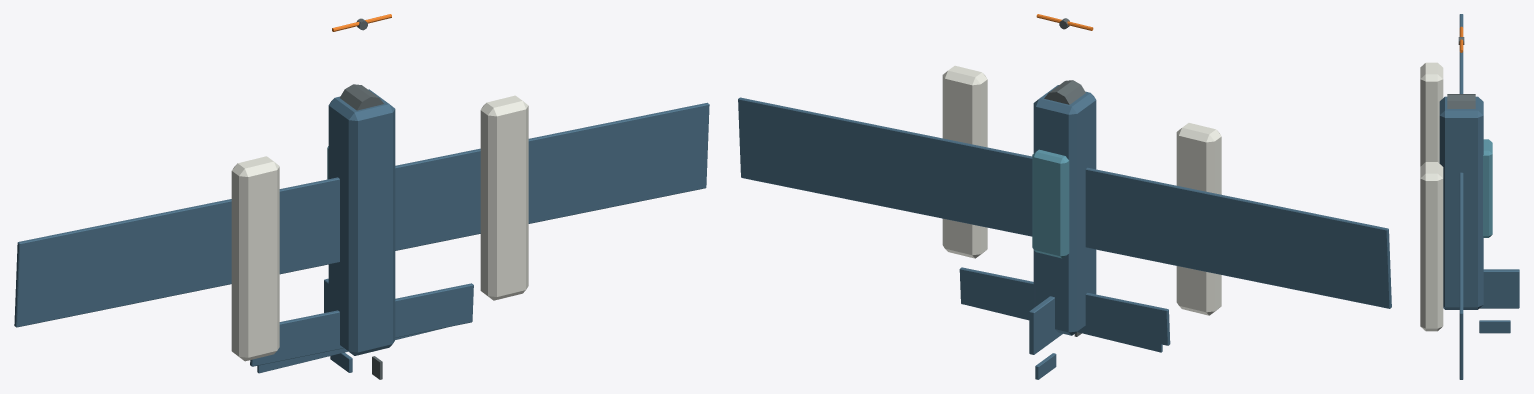
3 renders of one model, left to right at view 1: azimuth 30°, elevation 25°; view 2: azimuth 150°, elevation 25°; view 3: azimuth 270°, elevation 25°, orthographic. The views are drawn at different scales.
Visible parts, largest first — view 1: main_wing.038, fuselage.033, float_3.6936, float_-3.6936, horizontal_tail.038, engine_mount_0.038, elevator.038; view 2: main_wing.038, fuselage.033, float_3.6936, horizontal_tail.038, float_-3.6936, aileron_R.038, canopy.033, elevator.038, vertical_tail.038, engine_mount_0.038; view 3: fuselage.033, float_3.6936, float_-3.6936, vertical_tail.038, main_wing.038, canopy.033, rudder.038, engine_mount_0.038, prop_blade.136.
Boxes of the visible parts, x1=… form: main_wing.038: x1=14, y1=102, x2=709, y2=327; fuselage.033: x1=328, y1=89, x2=395, y2=355; float_3.6936: x1=480, y1=95, x2=528, y2=300; float_-3.6936: x1=231, y1=156, x2=279, y2=361; horizontal_tail.038: x1=250, y1=283, x2=473, y2=366; engine_mount_0.038: x1=340, y1=84, x2=383, y2=110; elevator.038: x1=257, y1=327, x2=445, y2=373; main_wing.038: x1=738, y1=97, x2=1391, y2=308; fuselage.033: x1=1033, y1=85, x2=1096, y2=335; float_3.6936: x1=942, y1=65, x2=987, y2=258; horizontal_tail.038: x1=959, y1=267, x2=1170, y2=345; float_-3.6936: x1=1176, y1=123, x2=1221, y2=315; aileron_R.038: x1=745, y1=121, x2=913, y2=185; canopy.033: x1=1032, y1=149, x2=1069, y2=258; elevator.038: x1=966, y1=285, x2=1162, y2=352; vertical_tail.038: x1=1029, y1=296, x2=1062, y2=354; engine_mount_0.038: x1=1044, y1=80, x2=1085, y2=104; fuselage.033: x1=1439, y1=96, x2=1483, y2=309; float_3.6936: x1=1420, y1=162, x2=1443, y2=331; float_-3.6936: x1=1420, y1=62, x2=1443, y2=166; vertical_tail.038: x1=1480, y1=269, x2=1519, y2=308; main_wing.038: x1=1459, y1=14, x2=1463, y2=379; canopy.033: x1=1483, y1=139, x2=1492, y2=237; rudder.038: x1=1479, y1=320, x2=1510, y2=333; engine_mount_0.038: x1=1447, y1=94, x2=1475, y2=108; prop_blade.136: x1=1459, y1=26, x2=1463, y2=52.
Bounding box in the file's own units: 20.6 × 10.24 × 3.12.
